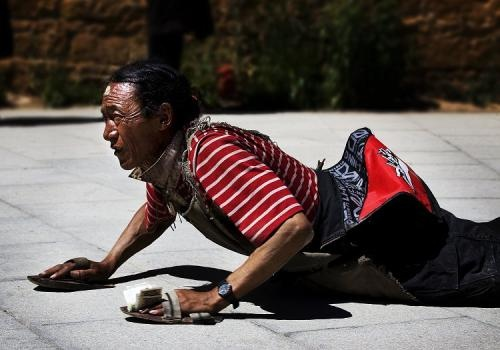falling: (37, 45, 500, 337)
